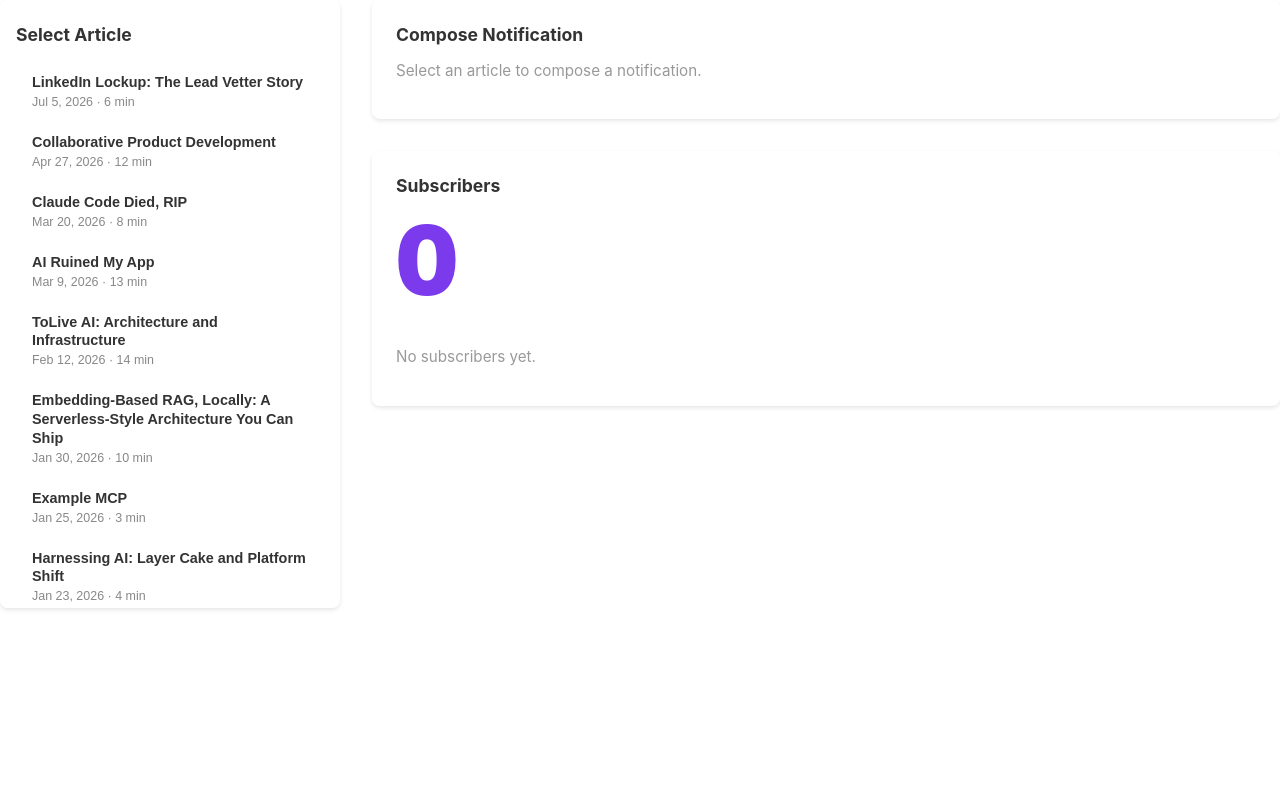
Test case: NotificationsView › shows no subscribers message when sent is 0
The width and height of the screenshot is (1280, 800).
Click the text "LinkedIn Lockup: The Lead Vetter Story": (168, 82) [32,73,303,92]
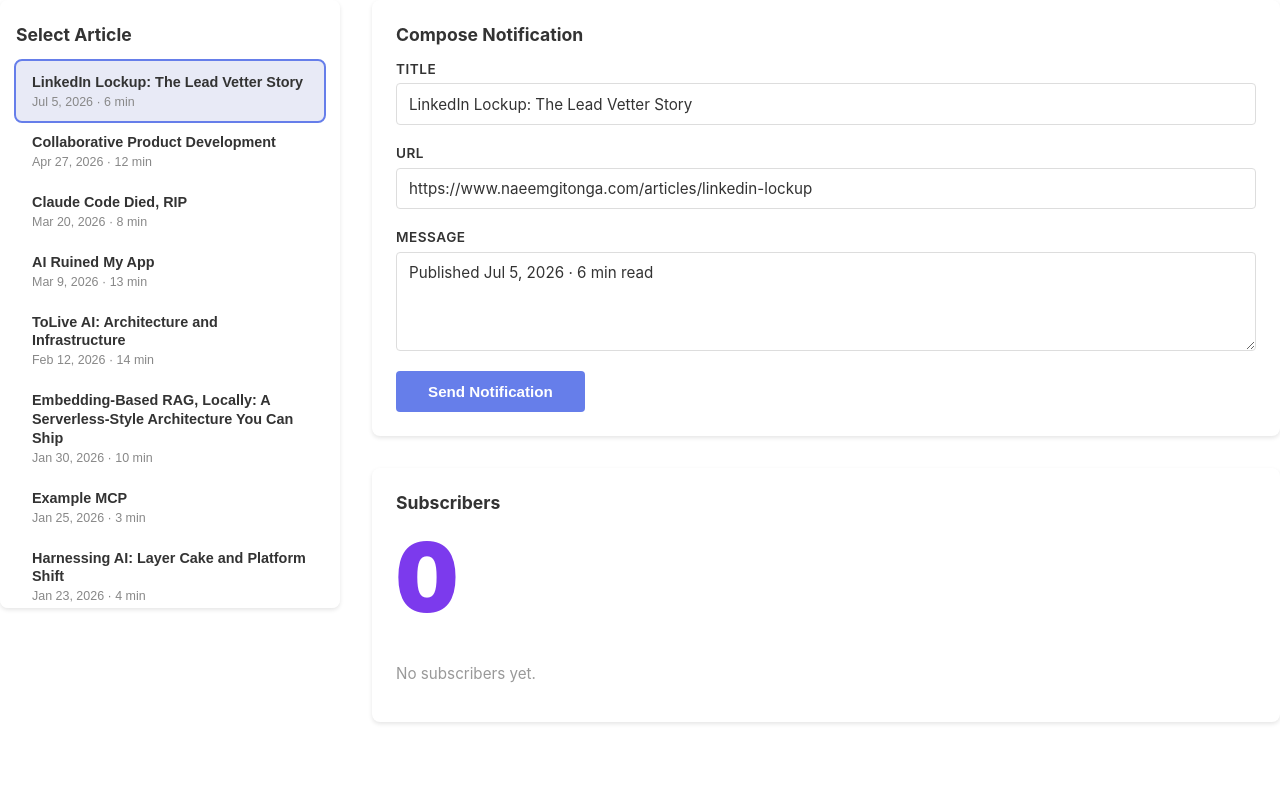
Click the button "Send Notification": (490, 391) [396,370,585,412]
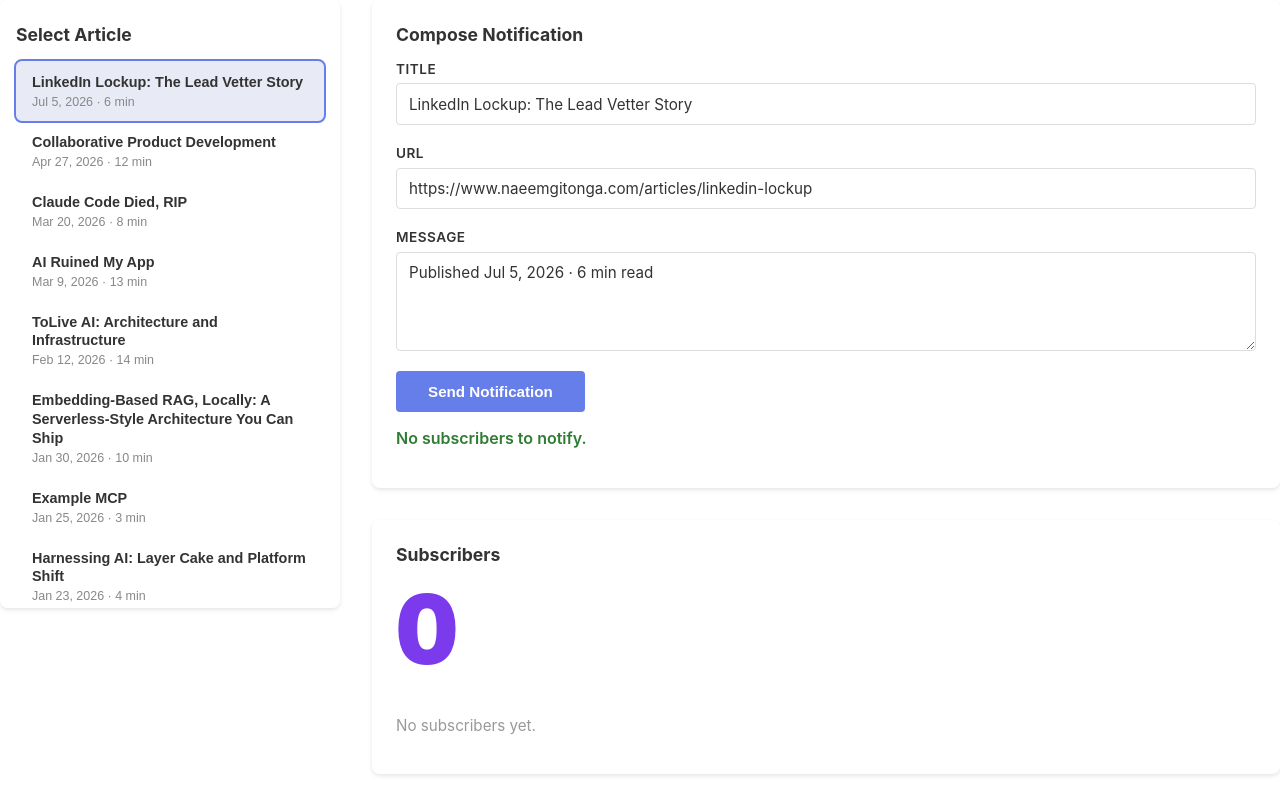
Expected: the text "No subscribers to notify." is shown, [396,428,587,448]
